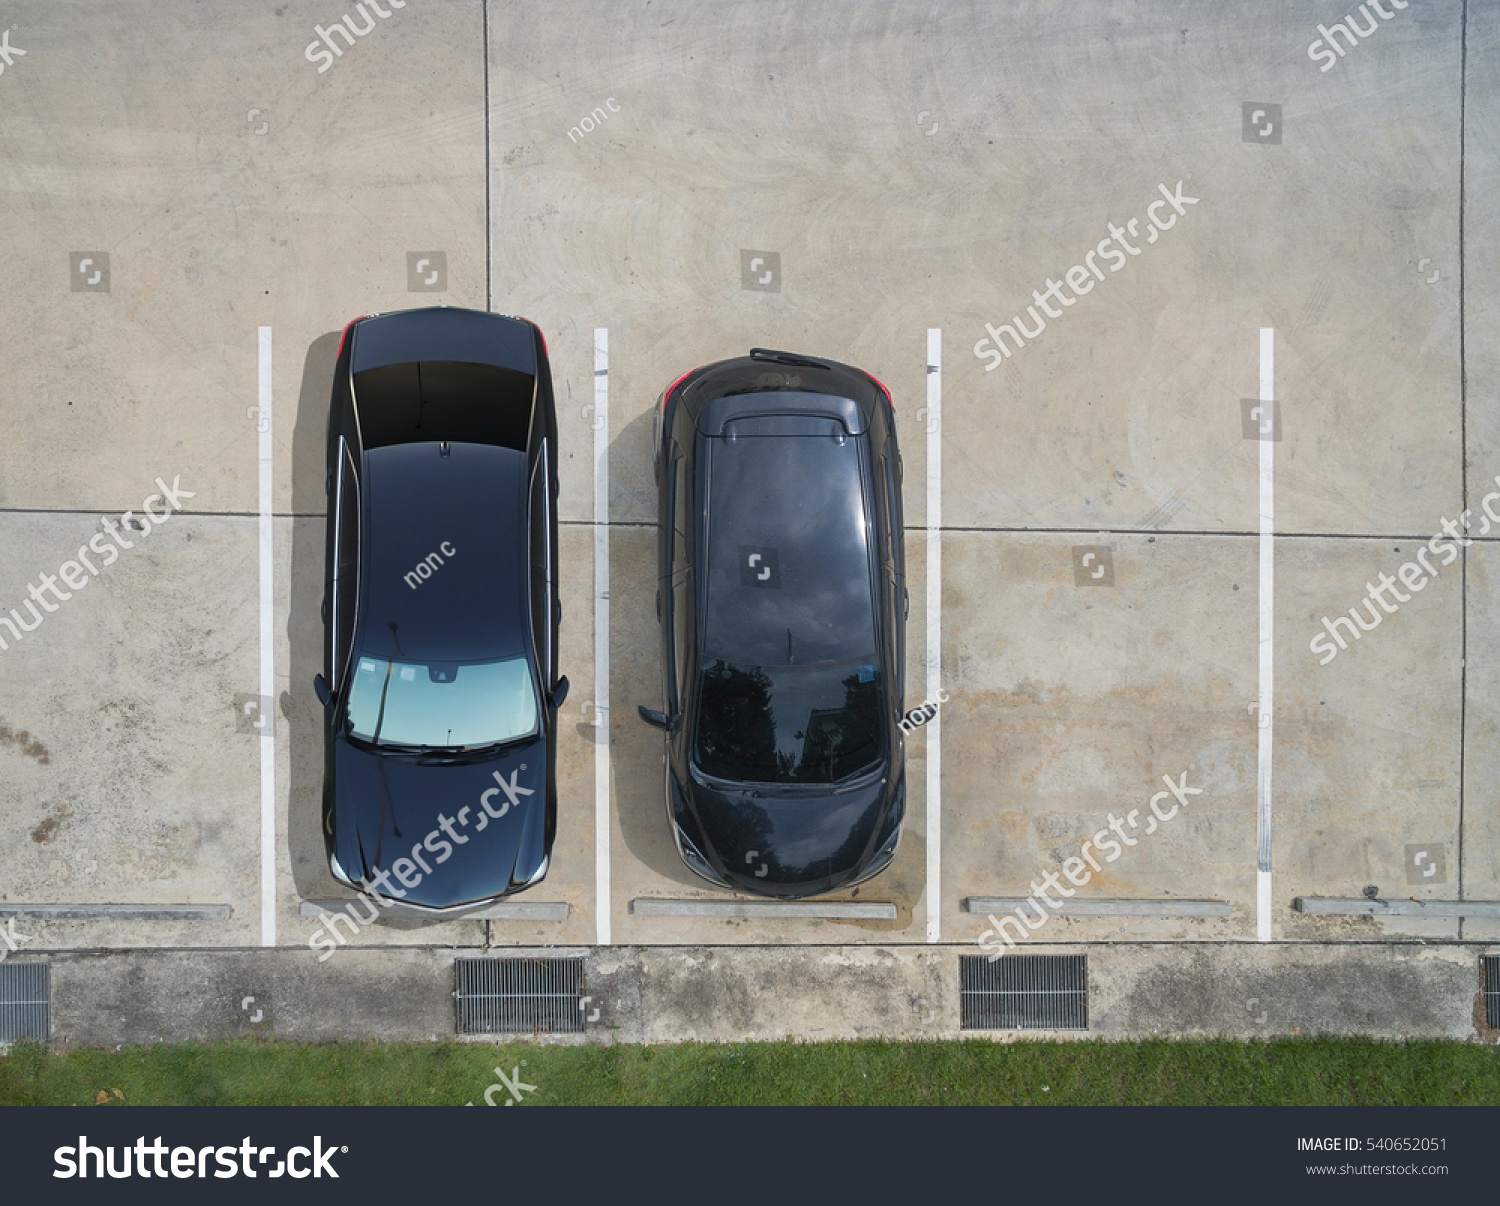Car: (317, 301, 568, 918), (652, 347, 914, 906)
LaneMark: (1255, 324, 1275, 944), (927, 322, 945, 956), (255, 322, 272, 957), (594, 320, 612, 948)
